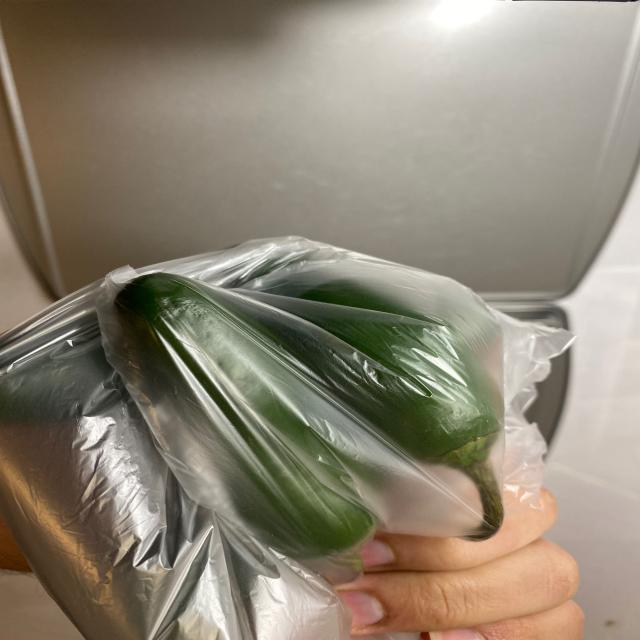chilli: (6, 255, 596, 602)
